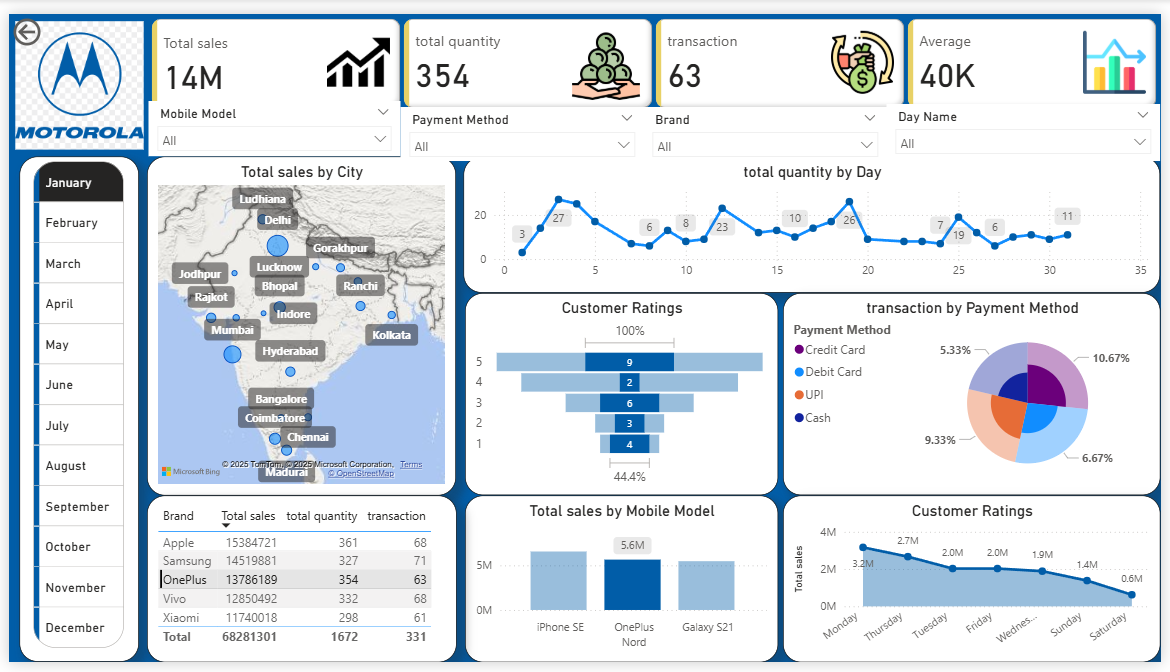

The dashboard page shown, as its layout file describes it:
{"tool":"powerbi","page":{"name":"Page 1","canvas":[1280,720],"ordinal":0},"visuals":[{"type":"image","box":[1.9,0,152.9,158.5],"z":0},{"type":"shape","box":[11.2,158.5,132.4,561.4],"z":1000},{"type":"advancedSlicerVisual","fields":{"Values":["sales data.Date.Variation.Date Hierarchy.Month"]},"box":[22.4,158.5,111.9,561.4],"z":2000},{"type":"cardVisual","fields":{"Data":["sales_data.Total sales","sales_data.total quantity","sales_data.transaction","sales_data.Average"]},"box":[153.1,0,1128.2,109.6],"z":3000},{"type":"map","fields":{"Category":["sales_data.City"],"Size":["sales_data.Total sales"]},"box":[152.9,158.5,343.2,376.7],"z":4000},{"type":"lineChart","fields":{"Y":["sales_data.total quantity"],"Category":["sales_data.Date.Variation.Date Hierarchy.Month","sales_data.Date.Variation.Date Hierarchy.Day"]},"box":[505.4,158.5,774,151.1],"z":5000},{"type":"clusteredColumnChart","fields":{"Category":["sales_data.Mobile Model"],"Y":["sales_data.Total sales"]},"box":[506.5,534.8,347.7,185.2],"z":6000},{"type":"pieChart","fields":{"Category":["sales_data.Payment Method"],"Y":["sales_data.transaction"]},"box":[859.8,309.9,419.5,224.9],"z":7000},{"type":"actionButton","box":[0,0,100,40],"z":8000},{"type":"funnel","title":"Customer Ratings","fields":{"Category":["sales_data.Customer Ratings"],"Y":["CountNonNull(sales_data.Customer Ratings)"]},"box":[506.5,309.9,347.7,224.9],"z":9000},{"type":"areaChart","title":"Customer Ratings","fields":{"Category":["sales_data.Day Name"],"Y":["sales_data.Total sales"]},"box":[859.8,534.8,419.5,185.2],"z":10000},{"type":"tableEx","fields":{"Values":["sales_data.Brand","sales_data.Total sales","sales_data.total quantity","sales_data.transaction"]},"box":[153,535,344,185],"z":11000},{"type":"slicer","fields":{"Values":["sales_data.Mobile Model"]},"box":[154.8,97,279.7,61.5],"z":11001},{"type":"slicer","fields":{"Values":["sales_data.Payment Method"]},"box":[434.5,102.6,270.4,59.7],"z":11002},{"type":"slicer","fields":{"Values":["sales_data.Brand"]},"box":[705,102.6,270.4,61.5],"z":11003},{"type":"slicer","fields":{"Values":["sales_data.Day Name"]},"box":[975.4,100.7,304,63.4],"z":11004}]}

Visuals, with their boxes in screenshot pixels (x1, y1, x2, y2), scaled from the page's 1280x720 canvas onto the 1170x672 screenshot:
image: bbox=(2, 0, 141, 148)
shape: bbox=(10, 148, 131, 671)
advancedSlicerVisual - sales data.Date.Variation.Date Hierarchy.Month: bbox=(20, 148, 123, 671)
cardVisual - sales_data.Total sales x sales_data.total quantity: bbox=(140, 0, 1169, 102)
map - sales_data.City x sales_data.Total sales: bbox=(140, 148, 453, 500)
lineChart - sales_data.total quantity x sales_data.Date.Variation.Date Hierarchy.Month: bbox=(462, 148, 1169, 289)
clusteredColumnChart - sales_data.Mobile Model x sales_data.Total sales: bbox=(463, 499, 781, 671)
pieChart - sales_data.Payment Method x sales_data.transaction: bbox=(786, 289, 1169, 499)
actionButton: bbox=(0, 0, 91, 37)
"Customer Ratings" funnel: bbox=(463, 289, 781, 499)
"Customer Ratings" areaChart: bbox=(786, 499, 1169, 671)
tableEx - sales_data.Brand x sales_data.Total sales: bbox=(140, 499, 454, 671)
slicer - sales_data.Mobile Model: bbox=(141, 91, 397, 148)
slicer - sales_data.Payment Method: bbox=(397, 96, 644, 151)
slicer - sales_data.Brand: bbox=(644, 96, 892, 153)
slicer - sales_data.Day Name: bbox=(892, 94, 1169, 153)
